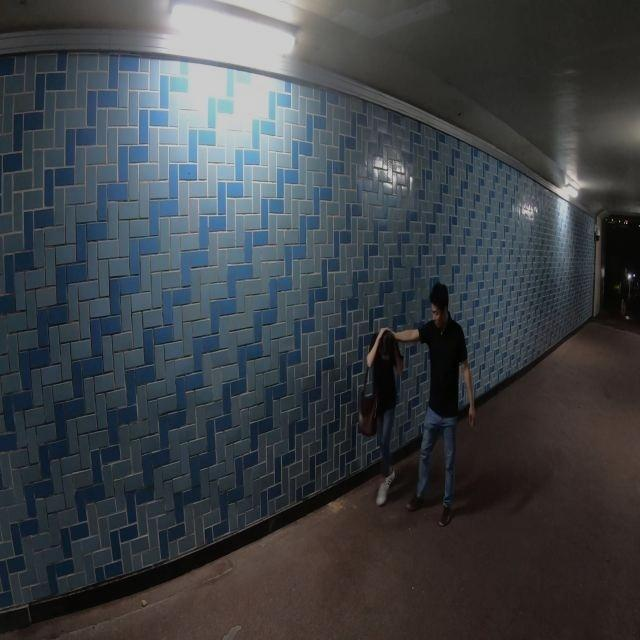fight: (358, 278, 476, 524)
